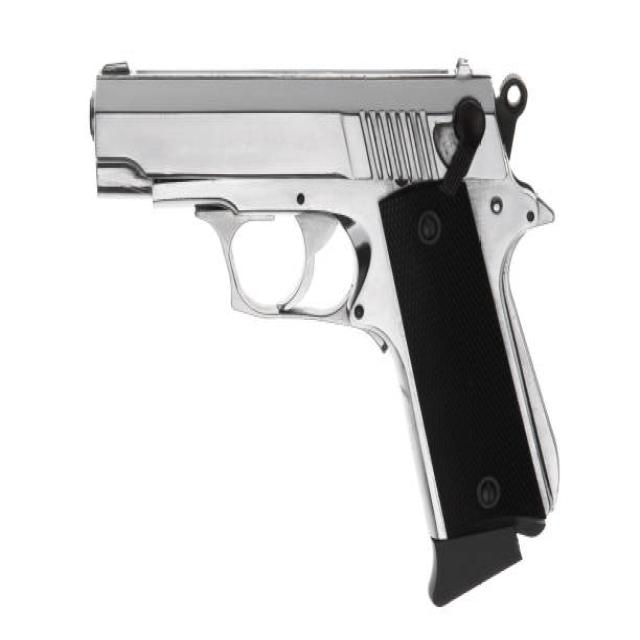pistol: (85, 39, 571, 615)
